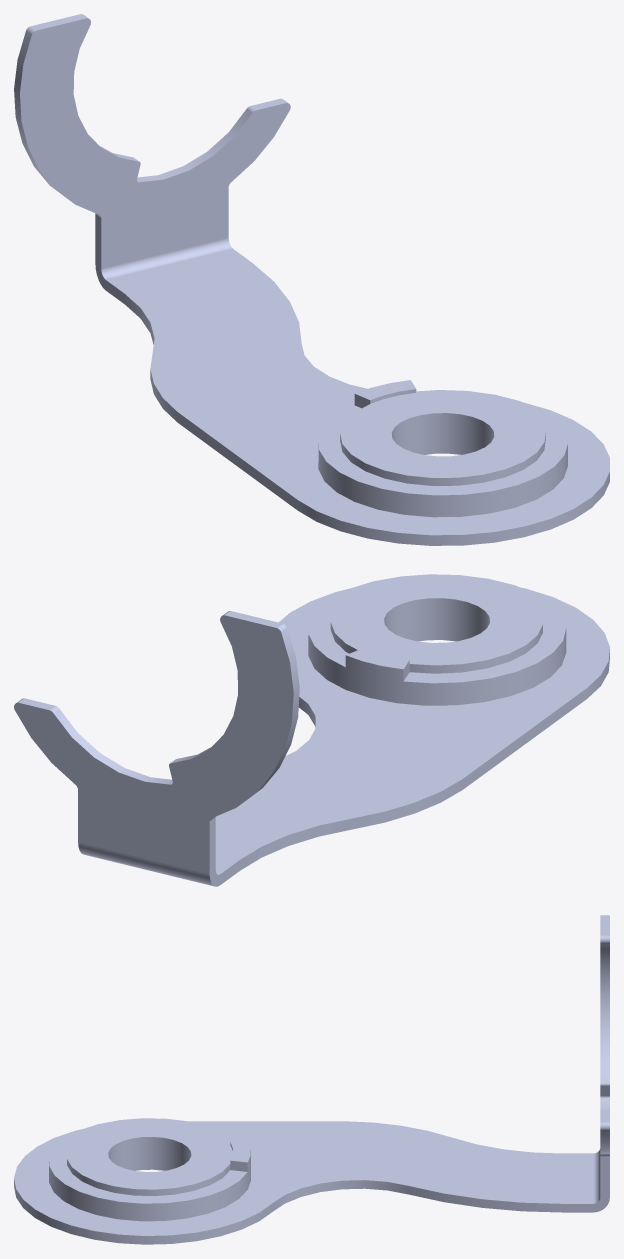
3 views of the same model, one above another, from view 1: azimuth 30°, elevation 25°; view 2: azimuth 150°, elevation 25°; view 3: azimuth 270°, elevation 25° (orthographic). The views are drawn at different scales.
Visible parts, largest first — view 1: Body1; view 2: Body1; view 3: Body1.
Part boxes in pixels (x1,y1,x2,y2): Body1: [14, 14, 609, 545]; Body1: [14, 574, 609, 886]; Body1: [14, 915, 609, 1244].
Size of the model in its own units: 0.057 by 0.0511 by 0.125.
